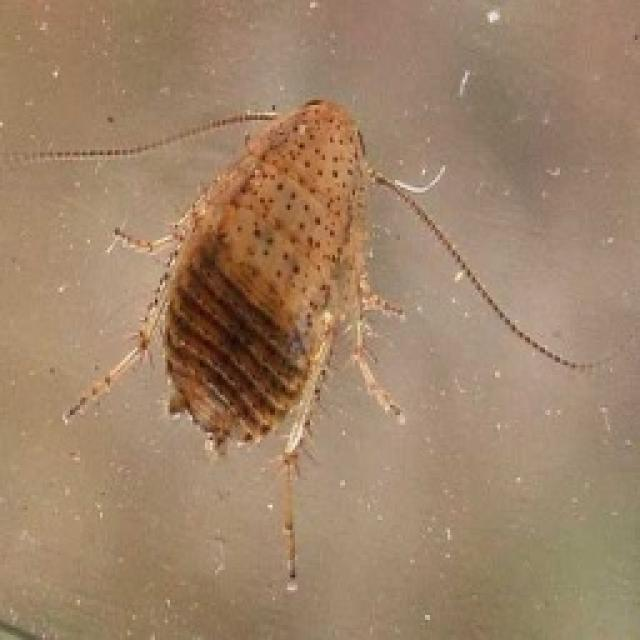cockroach: (85, 92, 415, 477)
